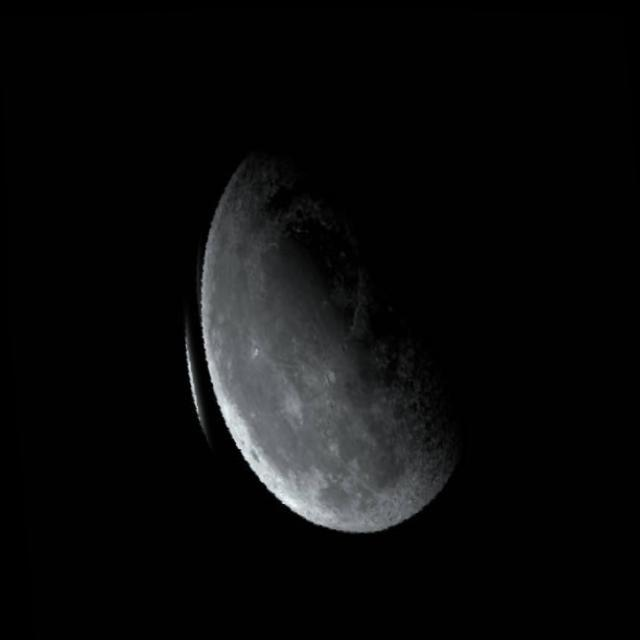moon: (152, 126, 478, 554)
